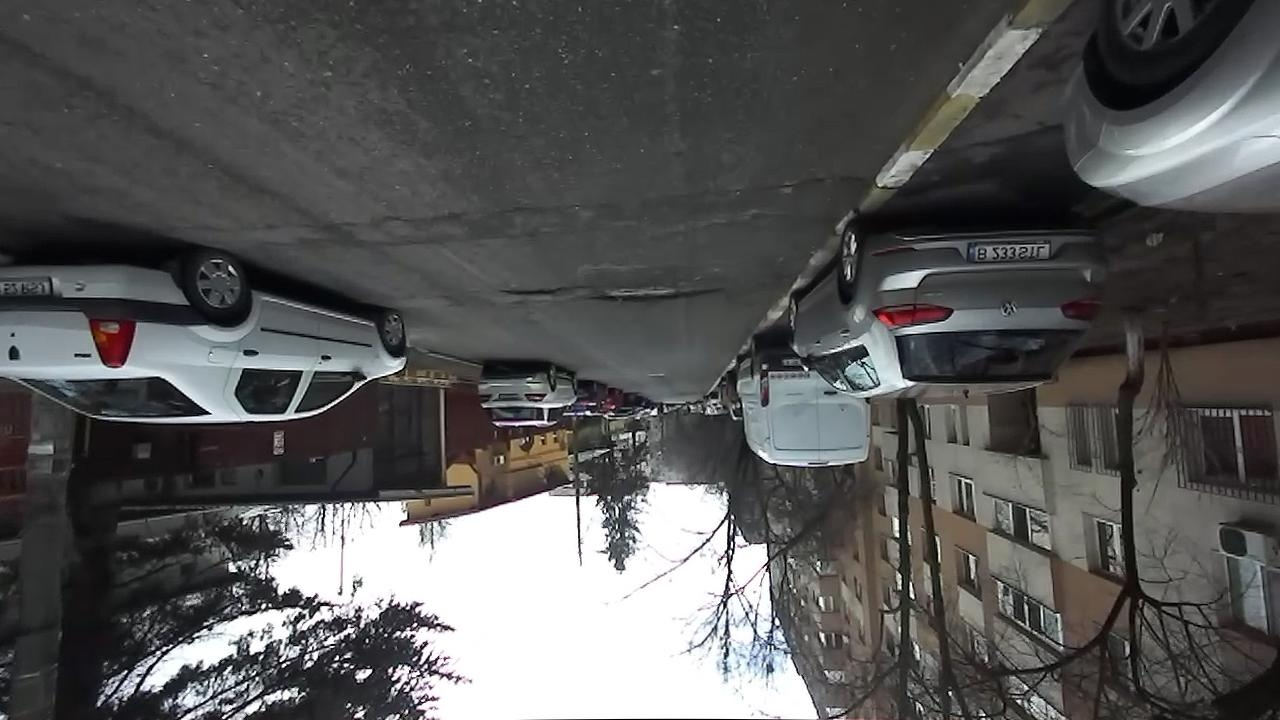pothole: (585, 282, 726, 306), (759, 170, 860, 193), (496, 285, 567, 299)
